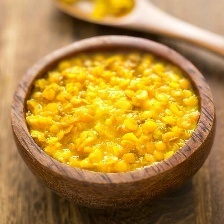dal: (27, 51, 201, 176)
